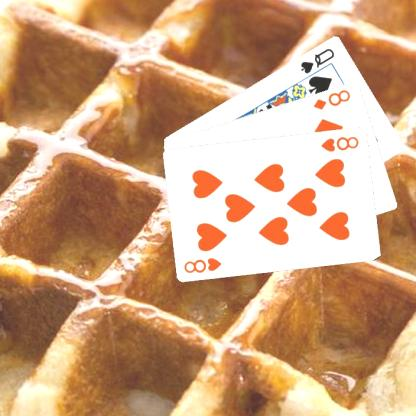8D: (310, 86, 352, 111)
8H: (318, 133, 360, 153), (181, 255, 223, 274)
QS: (298, 45, 336, 75)
